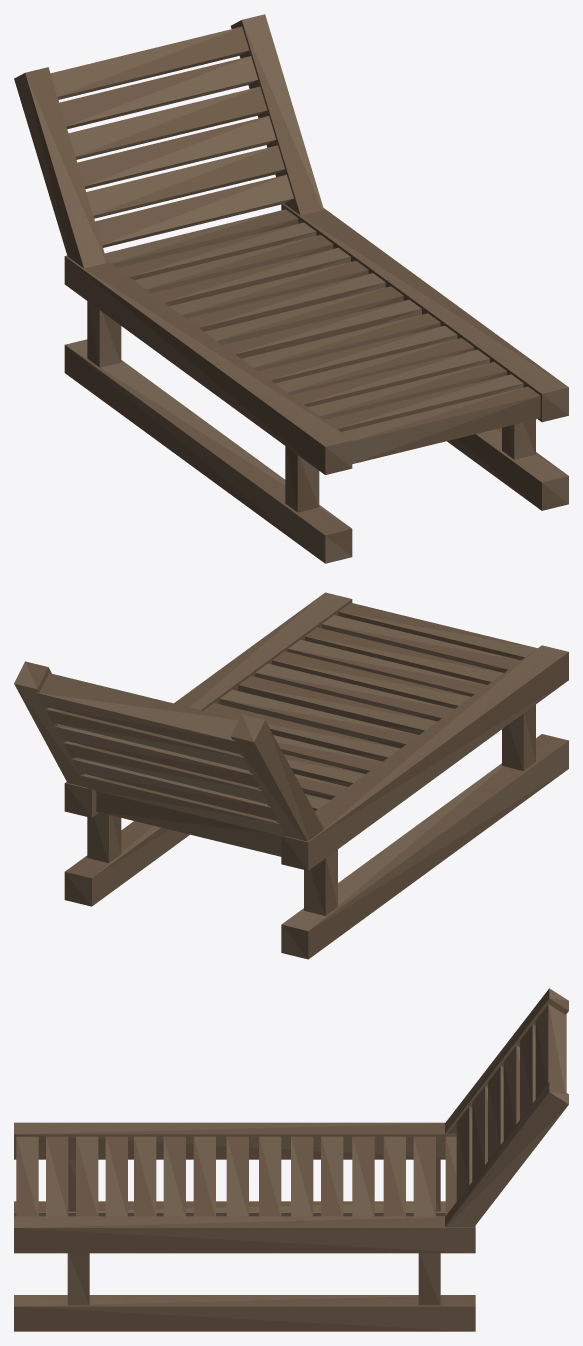
The model's file is Chair_1.fbx.
3 views of the same model, one above another, from view 1: azimuth 30°, elevation 25°; view 2: azimuth 150°, elevation 25°; view 3: azimuth 270°, elevation 25° (orthographic). The views are drawn at different scales.
Parts seen in each view (by area): view 1: polySurface176; view 2: polySurface176; view 3: polySurface176.
Boxes of the visible parts, x1,y1,x2,y2 form: polySurface176: (14,14,568,563); polySurface176: (14,592,568,959); polySurface176: (14,988,568,1331).
Size of the model in its own units: 135 by 143 by 300.
